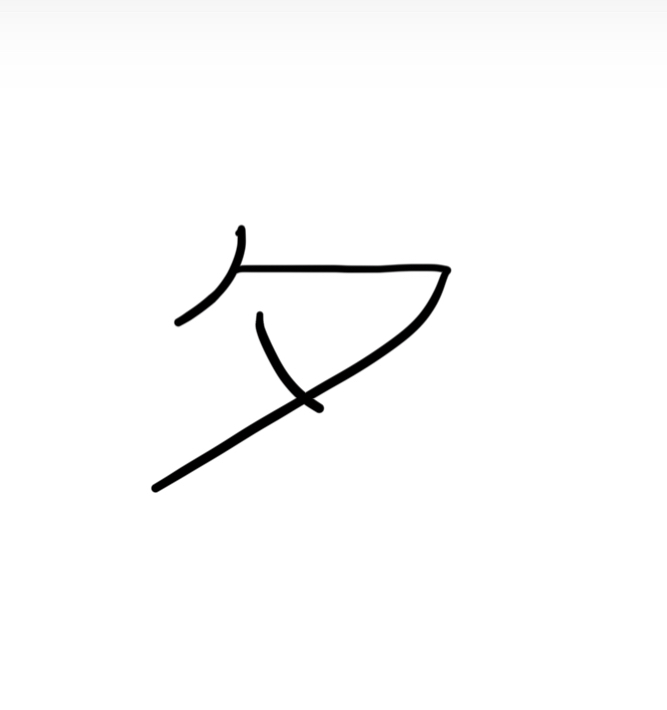ta: (117, 213, 467, 510)
